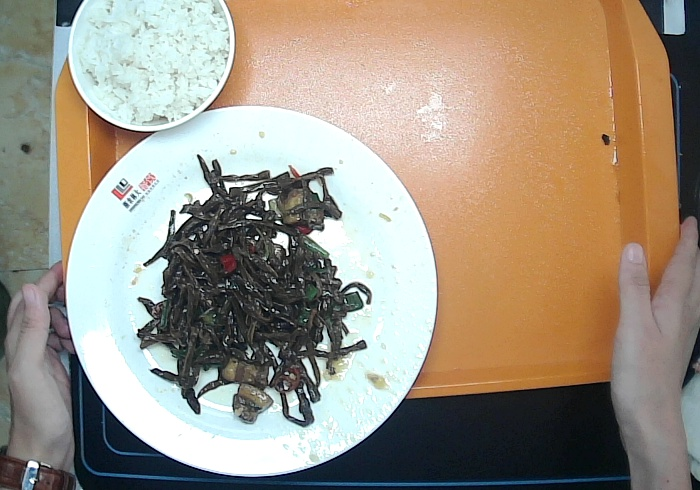ZNLD-Da_Yuan_Pan: (58, 95, 445, 484)
ZNLD-Fan_Wan: (62, 1, 238, 136)
